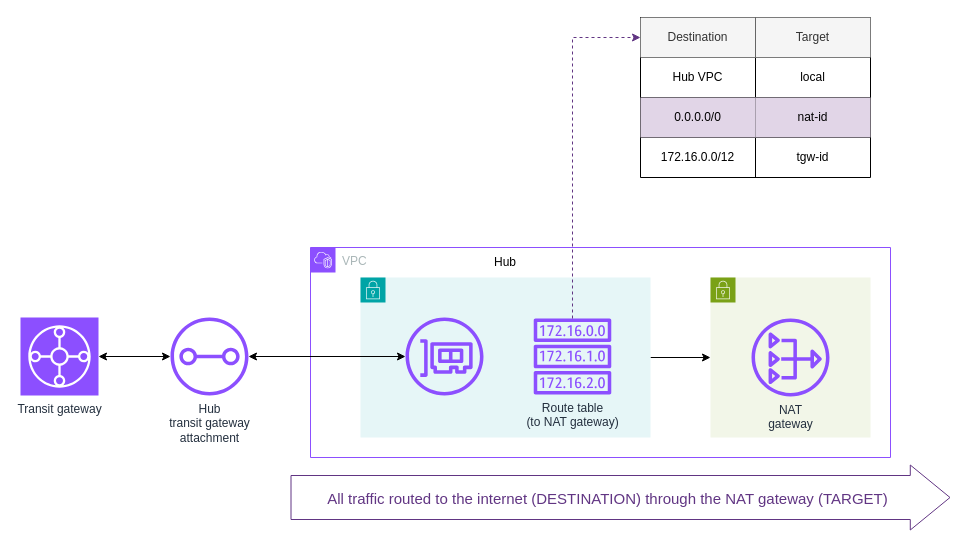
The diagram is 967 pixels wide and 548 high, and some of its shapes have lost their labels. The shapes that lost their labels are listed below. From the top down, each one's box as (x1, y1, x2, y2) in pixels, then its label:
(405, 317, 483, 395): Transit gateway network interface
(360, 276, 650, 438): TGW private subnet
(710, 276, 870, 438): NGW public subnet
